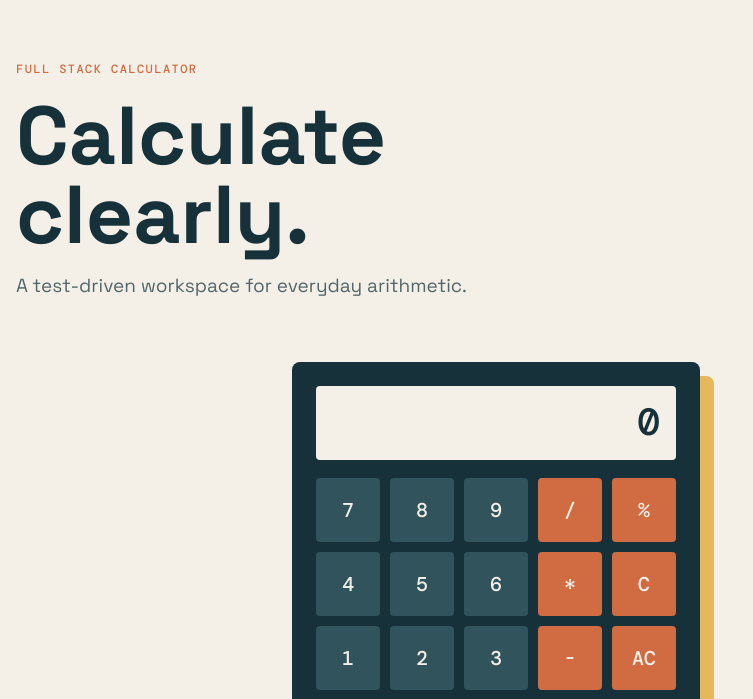
Test: Calculator shell › shows the API message when dividing by zero
Click the button "2" at (422, 658), box [390,626,454,690]
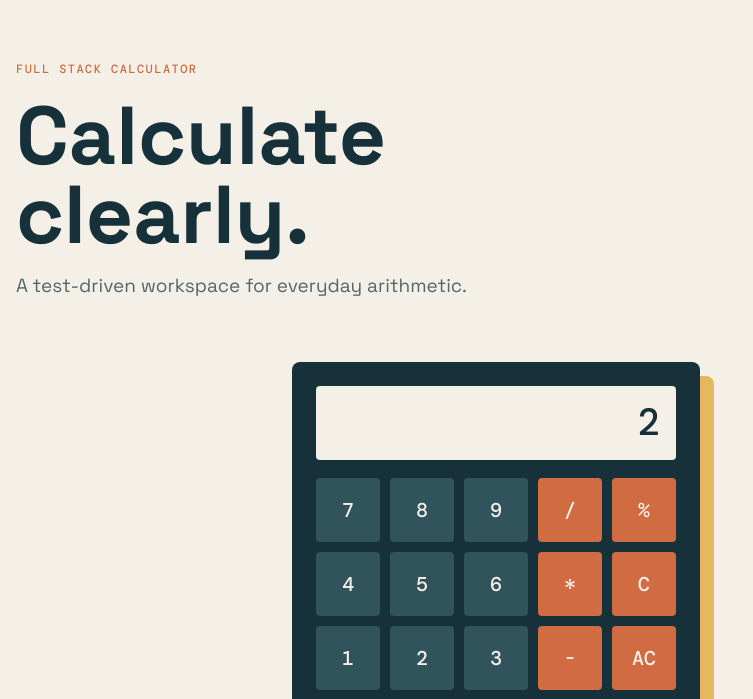
Click the button "/" at (570, 510), box [538,478,602,542]
(page scrolled)
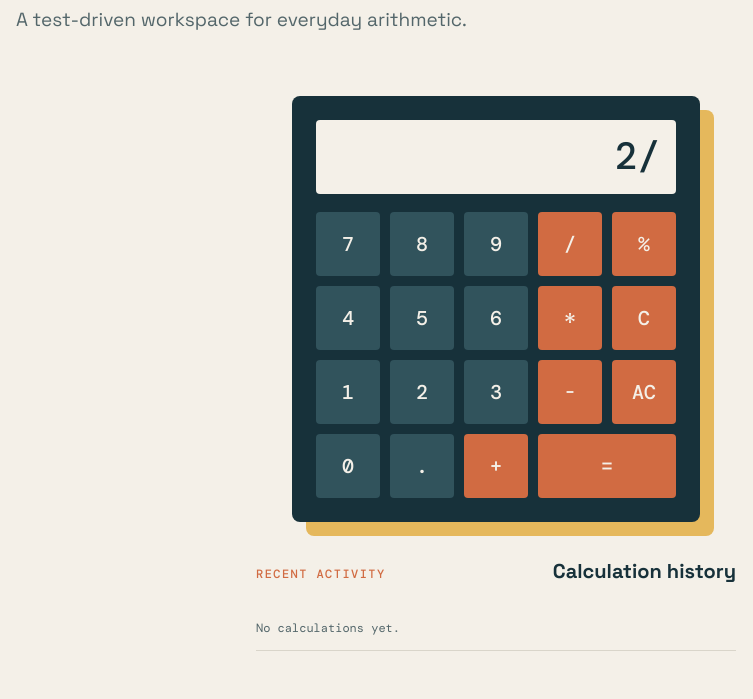
Click the button "0" at (348, 466), box [316,434,380,498]
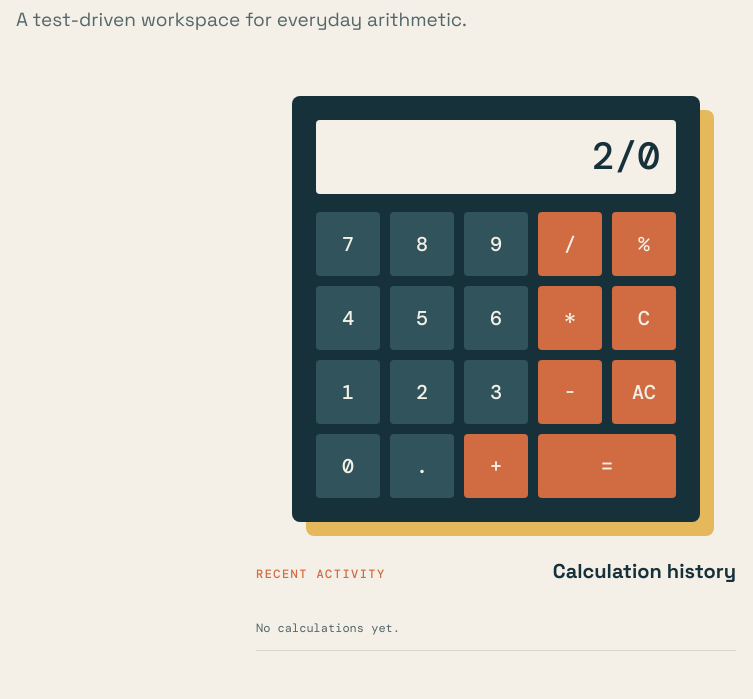
Click the button "=" at (607, 466), box [538,434,676,498]
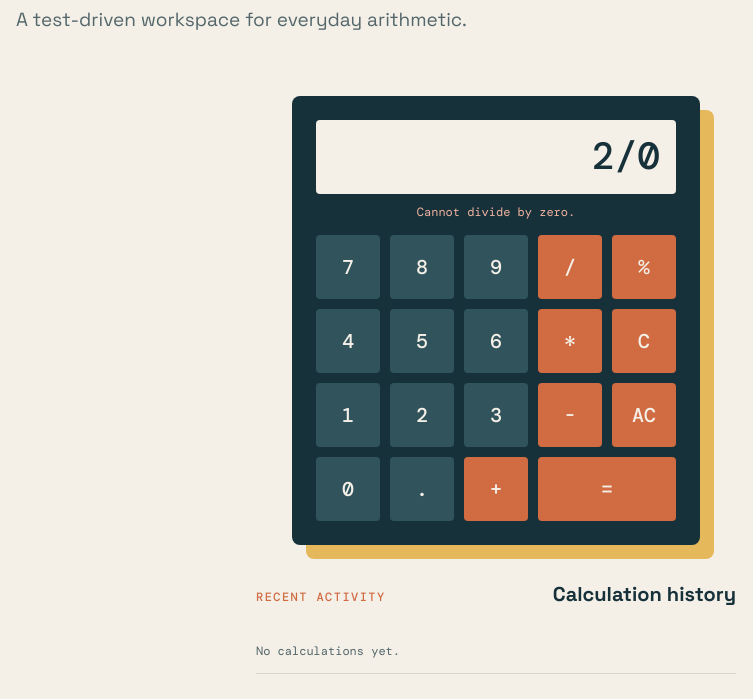
expect the message reads "Cannot divide by zero.": met, box [417,204,575,220]
